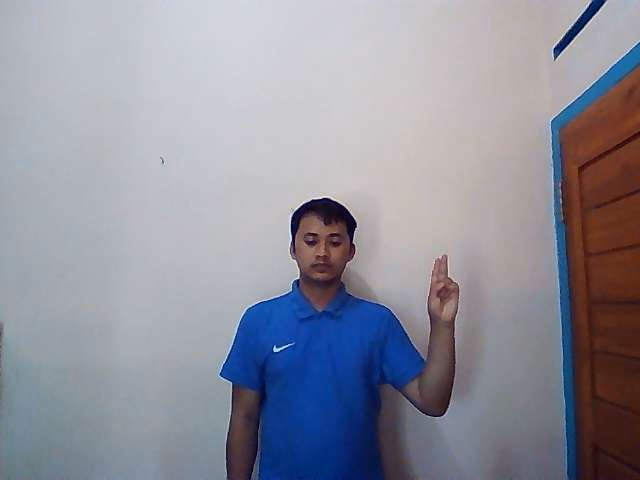U: (426, 253, 461, 322)
